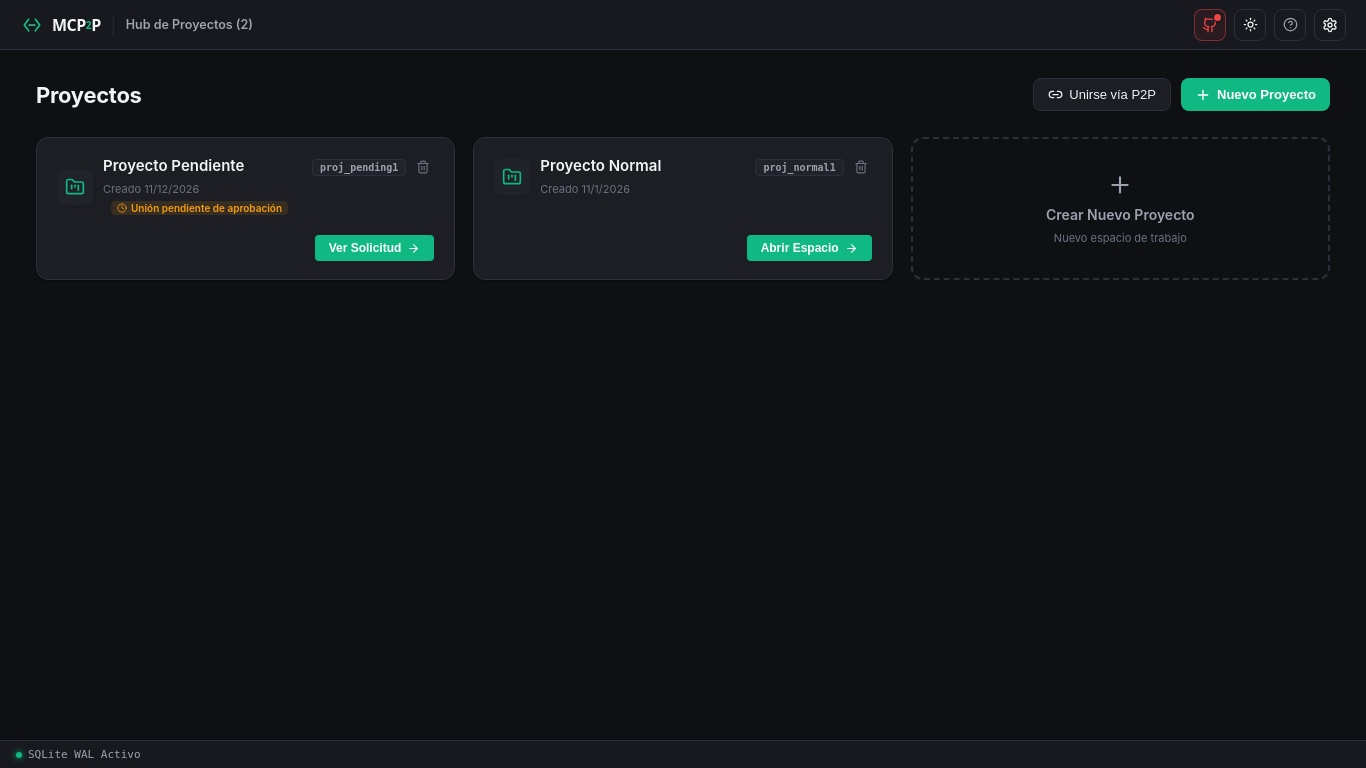
App - stubs de unión pendientes en el hub de proyectos (hallazgo C2) › un stub pendiente se distingue en el hub y abre JoinRequestPending (no un espacio de trabajo normal)
Expected: the button "Unirse vía P2P" is shown, [1033,78,1171,111]
Expected: the element with test id "project-card-pending" shows "Unión pendiente de aprobación", [131,202,282,214]
Click the button "Ver Solicitud".
click(374, 248)  # box [315,235,434,261]
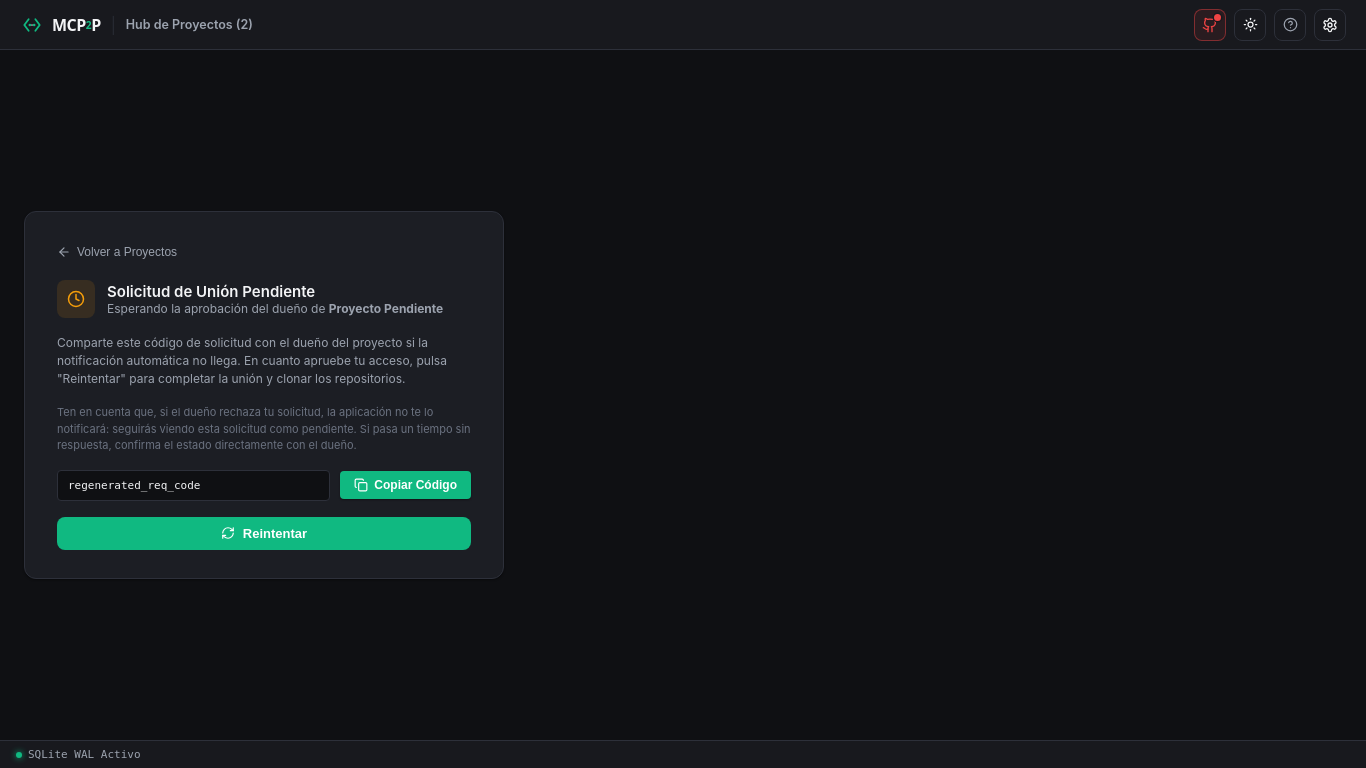
Expected: the element with test id "join-request-pending" is shown, [24,211,504,579]
Expected: the text "regenerated_req_code" is shown, [57,470,330,501]
